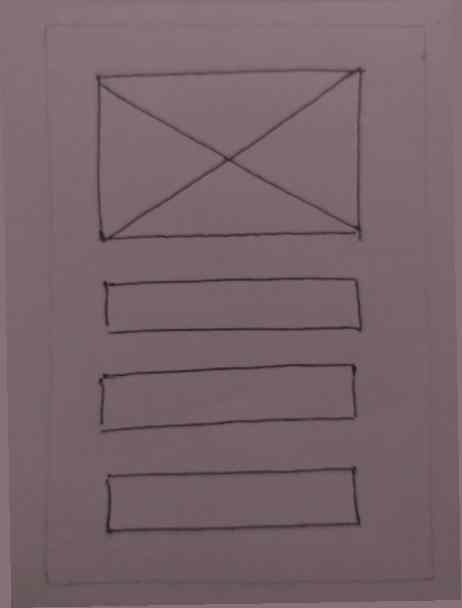image: (86, 59, 370, 255)
text_input: (89, 454, 374, 541), (92, 355, 362, 438), (92, 272, 367, 340)
